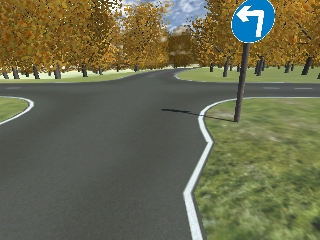left: (232, 2, 275, 43)
